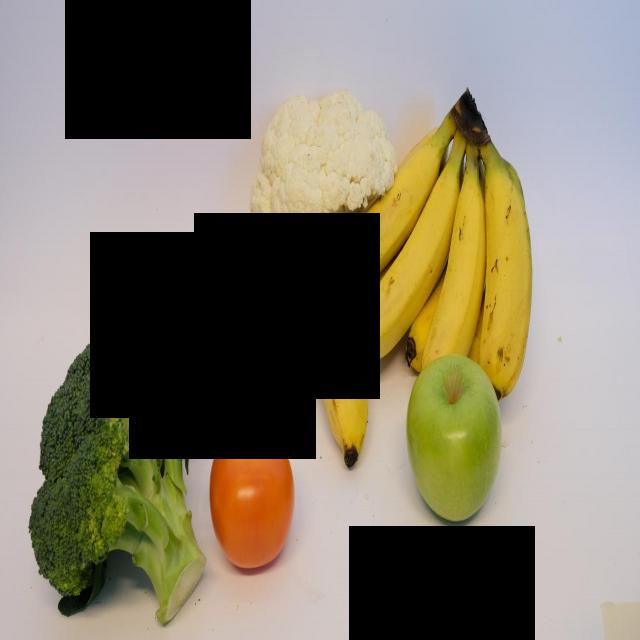apple: (403, 355, 503, 532), (123, 276, 224, 416)
banana: (219, 265, 374, 473), (348, 123, 467, 364), (321, 92, 453, 304), (416, 133, 485, 381), (474, 130, 533, 403)
broccoli: (26, 319, 210, 629)
cauliflower: (245, 87, 399, 286)
tomato: (210, 421, 296, 584)
